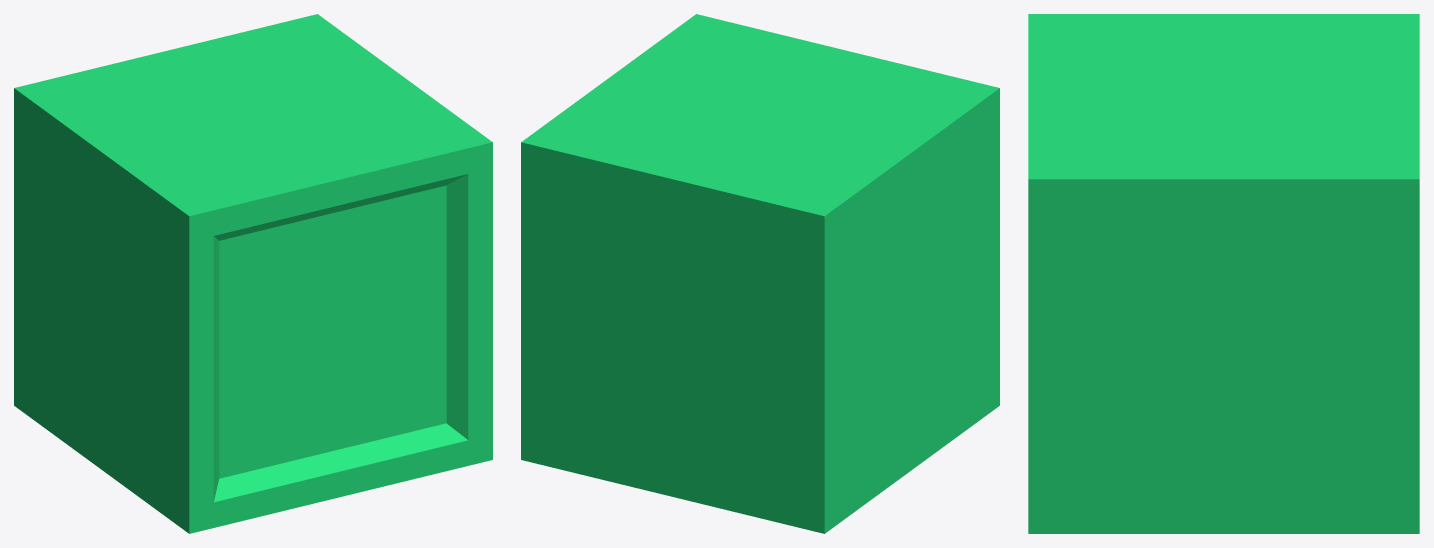
File: keypad.fbx
3 views of the same model, side by side, from view 1: azimuth 30°, elevation 25°; view 2: azimuth 150°, elevation 25°; view 3: azimuth 270°, elevation 25° (orthographic). The views are drawn at different scales.
Visible parts, largest first — view 1: keypad; view 2: keypad; view 3: keypad.
Boxes of the visible parts, left/top/right/bottom form: keypad: left=14, top=14, right=492, bottom=533; keypad: left=521, top=14, right=999, bottom=533; keypad: left=1028, top=14, right=1419, bottom=533.
Size of the model in its own units: 50 by 50 by 50.
